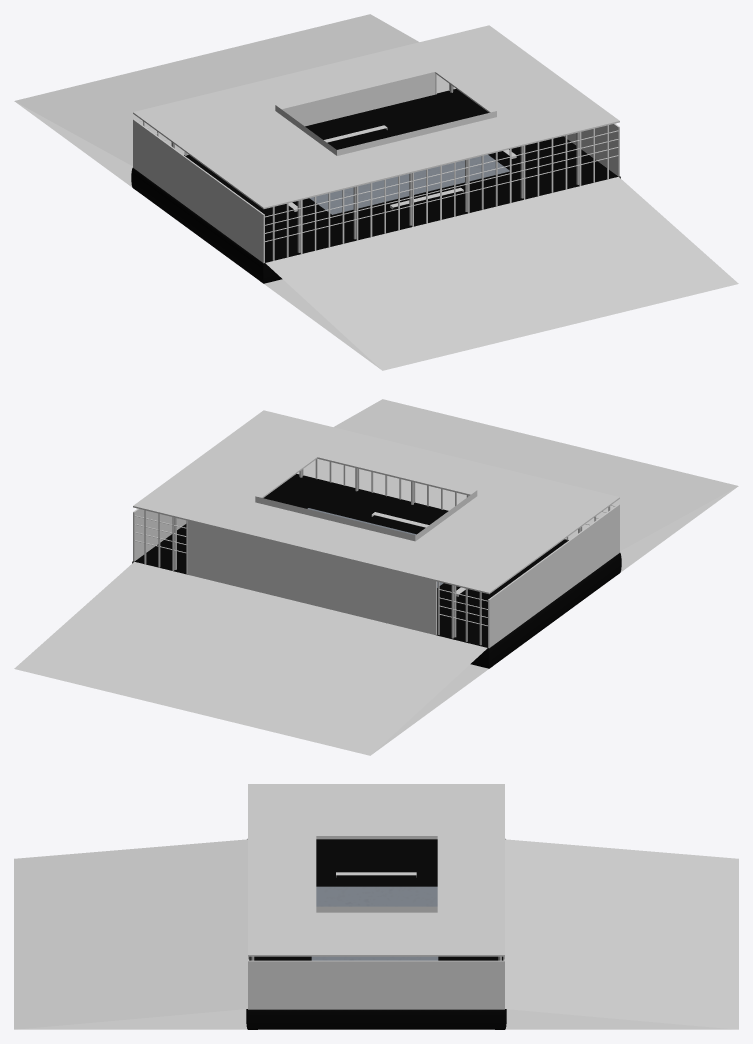
File: d1e15acf-77cd-47d9-bb11-cec2cd1c2c7b.glb
The picture shows the model from 3 angles, top to bottom: view 1: azimuth 30°, elevation 25°; view 2: azimuth 150°, elevation 25°; view 3: azimuth 270°, elevation 25°; orthographic projection.
Visible parts, largest first — view 1: Node-Mesh_0, Node-Mesh_2, Floor_Plat_4x4_Base, Node-Mesh_1; view 2: Node-Mesh_0, Node-Mesh_2; view 3: Node-Mesh_0, Node-Mesh_2, Floor_Plat_4x4_Base.
Boxes of the visible parts, box(x1,y1,x2,y2) form: Node-Mesh_0: box(14, 14, 738, 370); Node-Mesh_2: box(131, 89, 620, 283); Floor_Plat_4x4_Base: box(309, 154, 509, 214); Node-Mesh_1: box(172, 84, 579, 252); Node-Mesh_0: box(14, 399, 738, 755); Node-Mesh_2: box(132, 474, 621, 668); Node-Mesh_0: box(14, 784, 738, 1029); Node-Mesh_2: box(246, 839, 506, 1029); Floor_Plat_4x4_Base: box(311, 886, 438, 960).
Size of what is drawn, in the model's own units: 64.43 by 14.06 by 115.
Materials: 5 (2 with a texture image).
